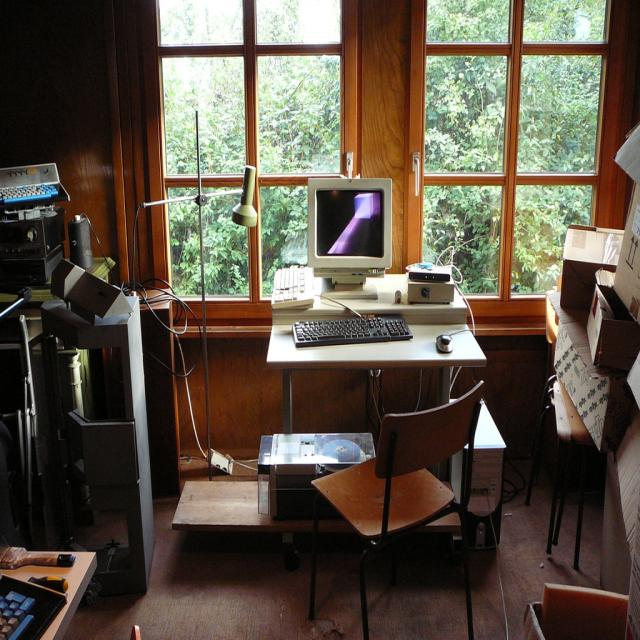chair: (309, 375, 484, 640), (522, 583, 629, 640)
desk: (268, 276, 483, 562)
keyboard: (291, 315, 413, 348)
mouse: (436, 334, 452, 354)
tv: (307, 176, 393, 280)
